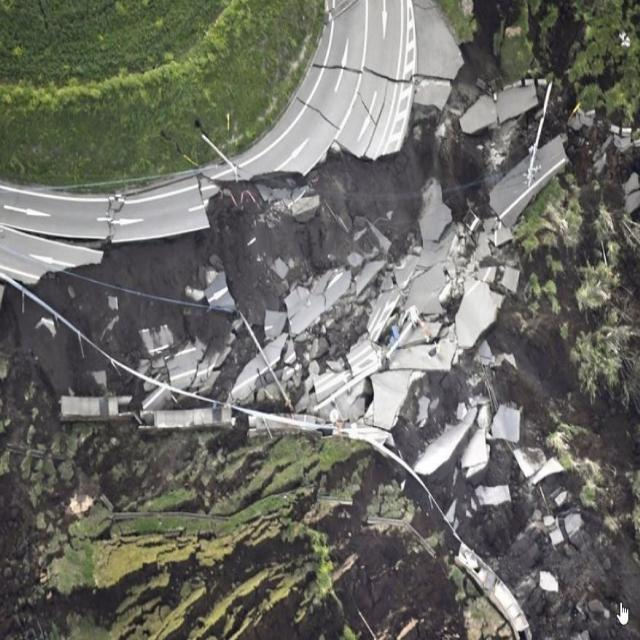collapsed_building: (109, 128, 583, 614)
